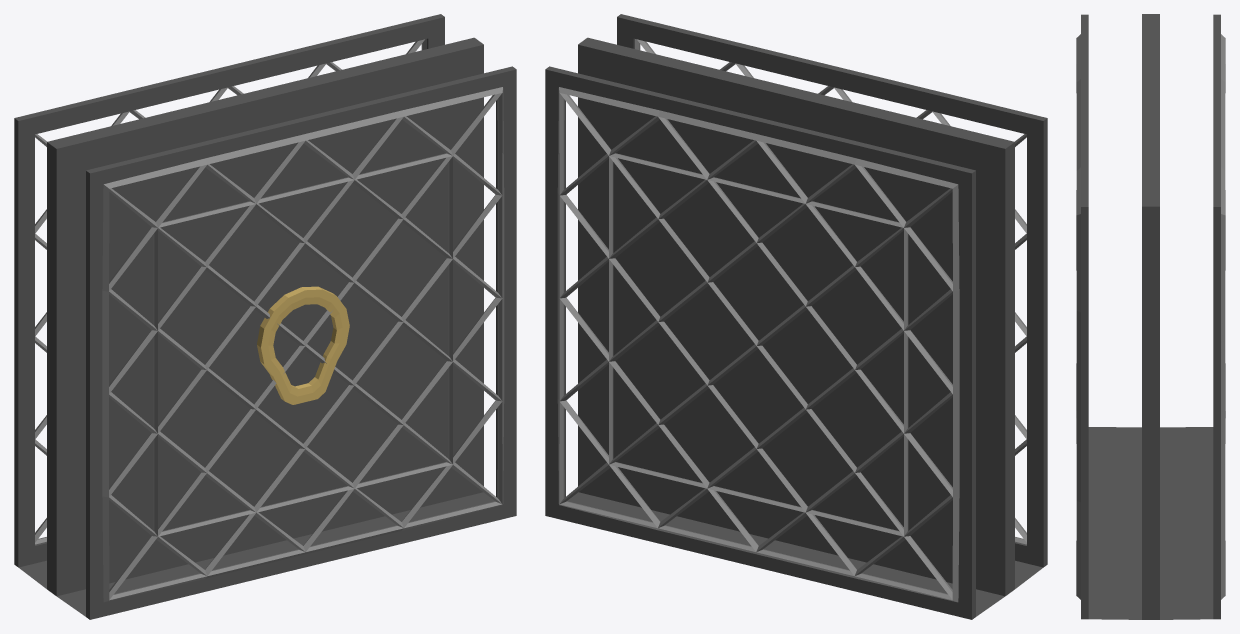
Rendered from Porte.fbx.
3 renders of one model, left to right at view 1: azimuth 30°, elevation 25°; view 2: azimuth 150°, elevation 25°; view 3: azimuth 270°, elevation 25°, orthographic. The views are drawn at different scales.
Visible parts, largest first — view 1: Porte; view 2: Porte; view 3: Porte.
Boxes of the visible parts, bbox=[...] form: Porte: bbox=[14, 14, 516, 619]; Porte: bbox=[545, 14, 1047, 619]; Porte: bbox=[1076, 14, 1225, 619].
Size of the model in its own units: 300 by 300 by 98.22.
